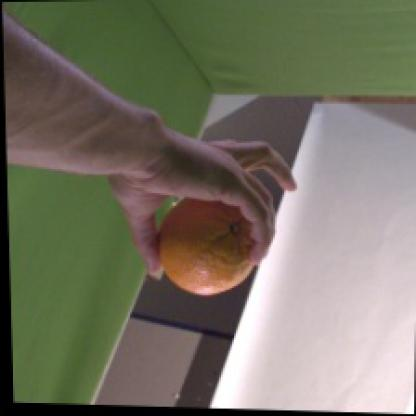Hand: (108, 113, 298, 278)
